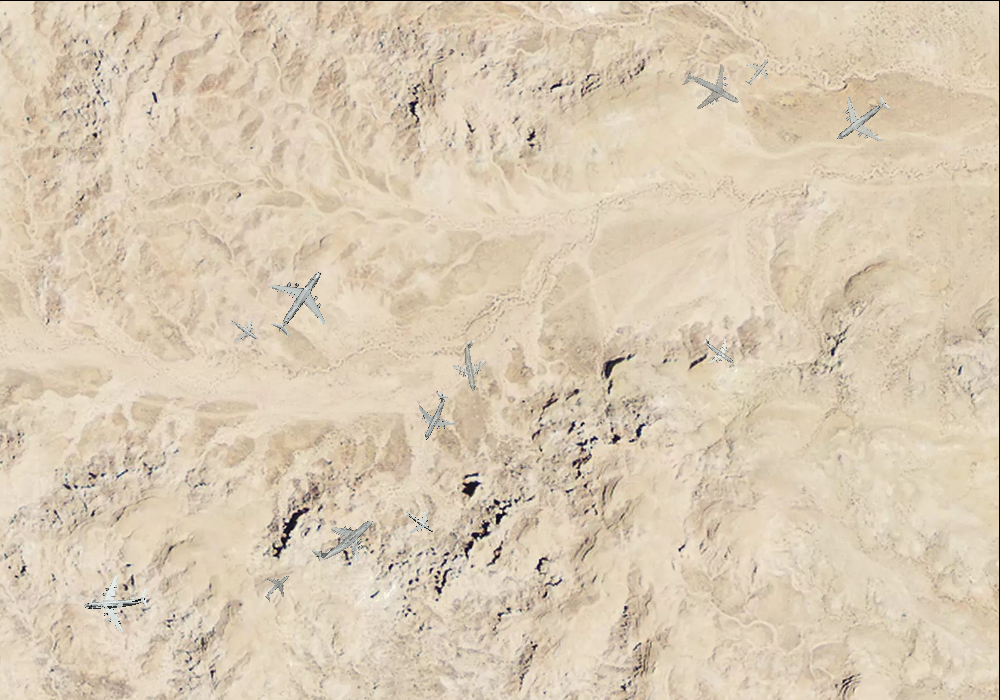plane: (250, 253, 347, 351), (299, 496, 388, 583), (820, 78, 904, 161), (672, 49, 751, 128), (80, 569, 150, 635), (402, 383, 466, 449), (445, 335, 498, 394), (693, 325, 744, 376), (221, 307, 266, 351), (396, 500, 441, 544), (736, 49, 779, 93), (255, 566, 298, 609)
